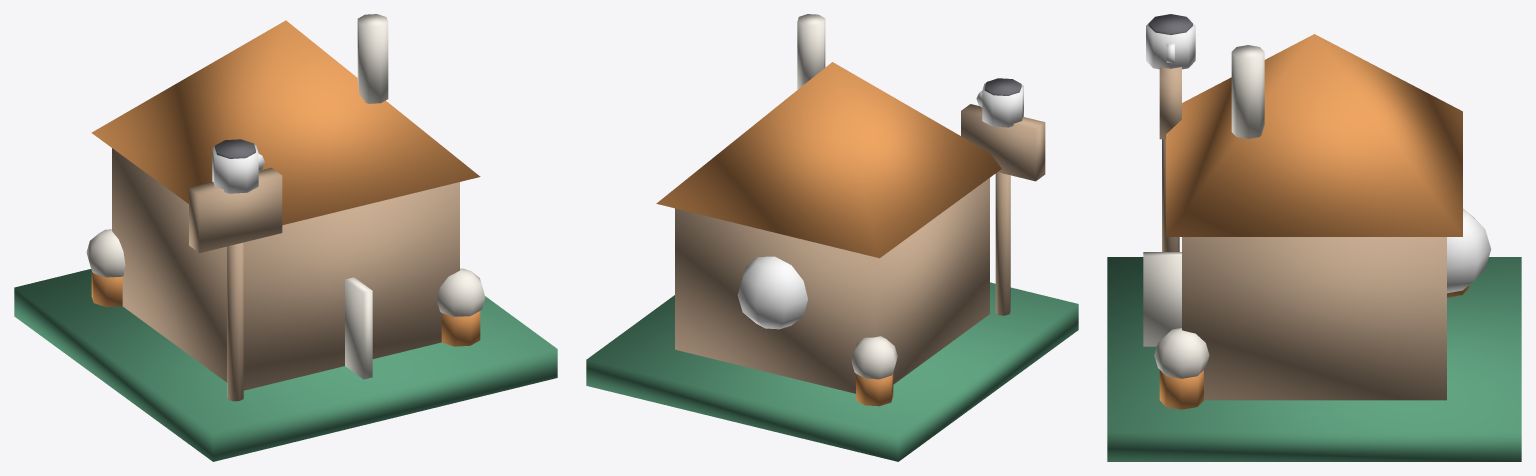
File: coffee_village.glb
3 views of the same model, side by side, from view 1: azimuth 30°, elevation 25°; view 2: azimuth 150°, elevation 25°; view 3: azimuth 270°, elevation 25° (orthographic). The views are drawn at different scales.
Visible parts, largest first — view 1: hut_body, base, hut_roof, sign_board, chimney, sign_pole, hut_door, flower1, cup, flower2, pot1, pot2 (+1 smaller); view 2: hut_body, hut_roof, base, hut_window, sign_board, sign_pole, chimney, flower2, cup, pot2, coffee_fill; view 3: hut_roof, hut_body, base, hut_door, chimney, hut_window, flower1, cup, sign_board, pot1, coffee_fill, sign_pole.
Boxes of the visible parts, x1,y1,x2,y2 form: hut_body: [112, 148, 459, 390]; base: [14, 269, 557, 461]; hut_roof: [91, 20, 480, 225]; sign_board: [189, 167, 282, 253]; chimney: [357, 14, 388, 103]; sign_pole: [227, 242, 243, 401]; hut_door: [345, 277, 372, 379]; flower1: [437, 268, 485, 316]; cup: [212, 145, 258, 193]; flower2: [86, 229, 125, 277]; pot1: [441, 311, 480, 346]; pot2: [91, 271, 122, 307]; hut_body: [675, 178, 989, 393]; hut_roof: [656, 62, 1001, 258]; base: [586, 282, 1078, 461]; hut_window: [737, 256, 807, 329]; sign_board: [961, 104, 1045, 181]; sign_pole: [995, 172, 1010, 315]; chimney: [797, 14, 825, 89]; flower2: [851, 336, 897, 379]; cup: [982, 83, 1023, 127]; pot2: [856, 373, 893, 406]; coffee_fill: [984, 78, 1021, 95]; hut_roof: [1166, 34, 1462, 236]; hut_body: [1182, 237, 1446, 400]; base: [1107, 257, 1521, 461]; hut_door: [1143, 252, 1181, 346]; chimney: [1231, 45, 1264, 138]; hut_window: [1447, 208, 1491, 293]; flower1: [1154, 328, 1209, 378]; cup: [1146, 18, 1195, 69]; sign_board: [1159, 67, 1181, 139]; pot1: [1159, 370, 1203, 409]; coffee_fill: [1148, 14, 1192, 34]; sign_pole: [1162, 139, 1179, 251].
Size of the model in its own units: 0.75 by 0.7 by 0.75.
